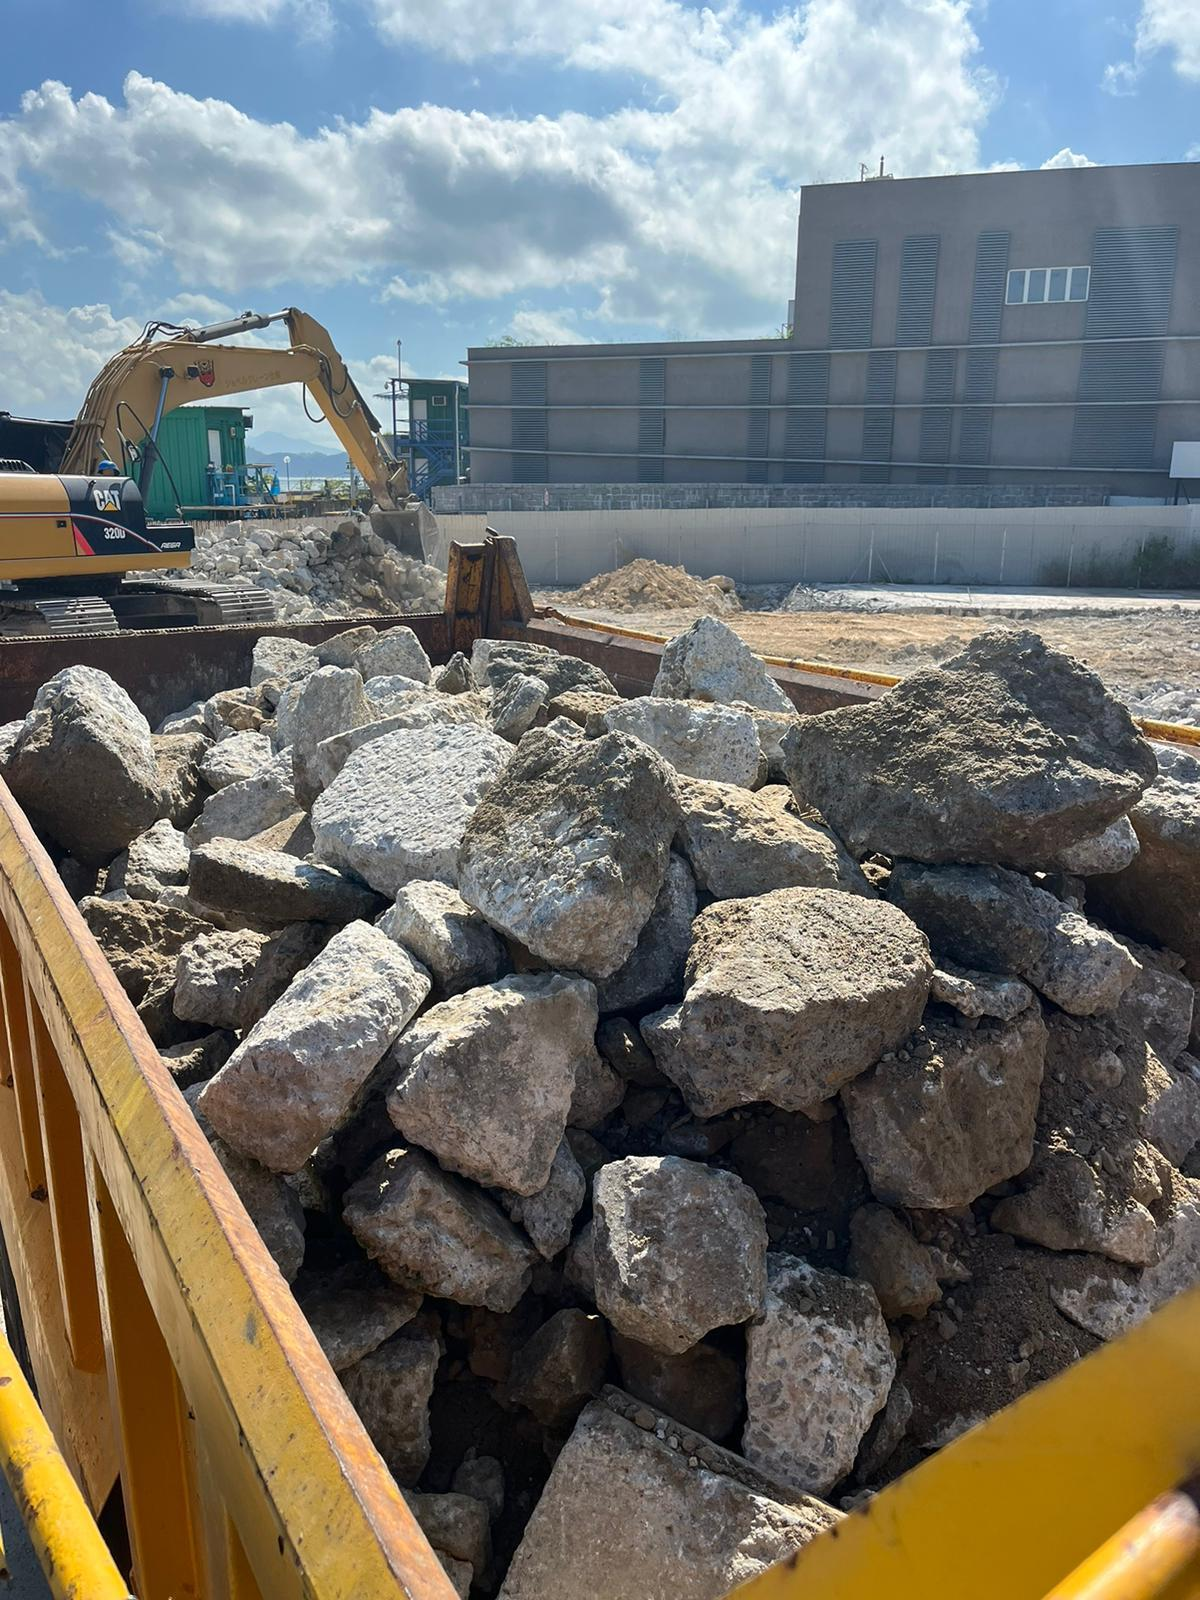dry: (8, 627, 1190, 1600)
